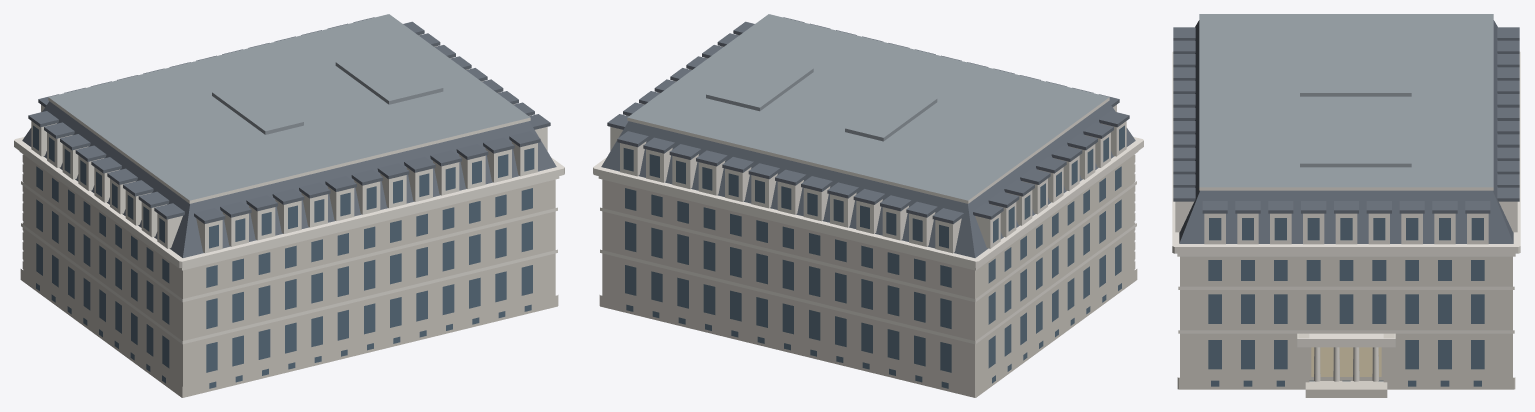
File: ral-federal-building.glb
The picture shows the model from 3 angles, left to right: view 1: azimuth 30°, elevation 25°; view 2: azimuth 150°, elevation 25°; view 3: azimuth 270°, elevation 25°; orthographic projection. The views are drawn at different scales.
Visible parts, largest first — view 1: Century Post Office; view 2: Century Post Office; view 3: Century Post Office.
Part boxes in pixels (left/top/right/bottom): Century Post Office: left=14, top=14, right=564, bottom=397; Century Post Office: left=593, top=14, right=1143, bottom=397; Century Post Office: left=1172, top=14, right=1520, bottom=397.
Bounding box in the file's own units: 51.45 × 23.4 × 37.5.
